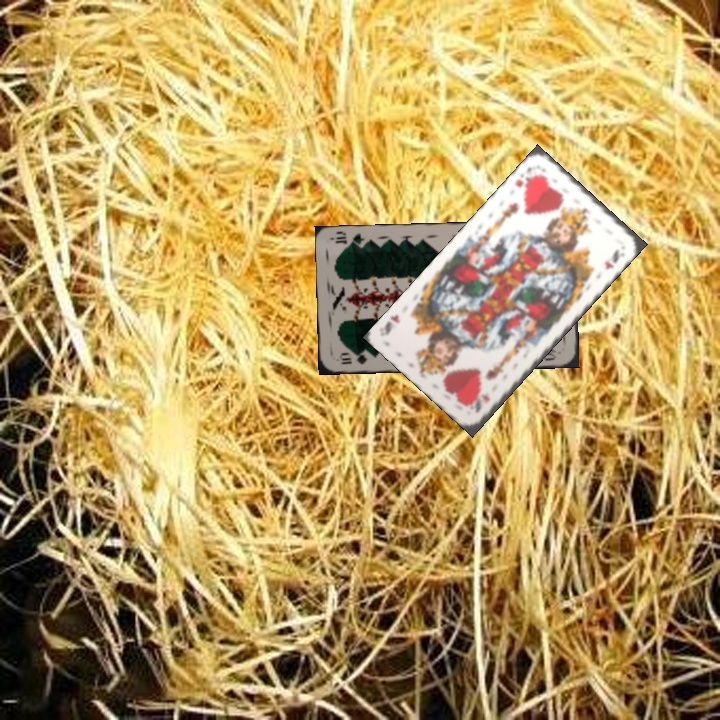G10: (336, 349, 370, 367)
HK: (511, 162, 537, 190), (471, 390, 493, 415)
